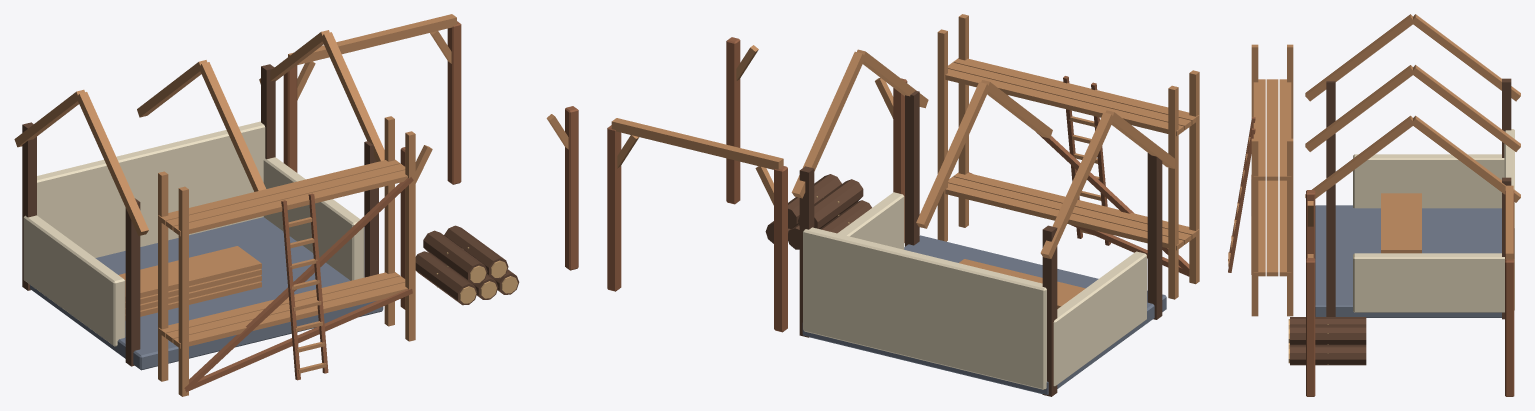
Rendered from station_scaffold.glb.
3 views of the same model, side by side, from view 1: azimuth 30°, elevation 25°; view 2: azimuth 150°, elevation 25°; view 3: azimuth 270°, elevation 25° (orthographic). The views are drawn at different scales.
Visible parts, largest first — view 1: station_scaffold_建筑共用调色板.024; view 2: station_scaffold_建筑共用调色板.024; view 3: station_scaffold_建筑共用调色板.024.
Part boxes in pixels (x1,y1,x2,y2): station_scaffold_建筑共用调色板.024: (14, 14, 578, 396); station_scaffold_建筑共用调色板.024: (607, 14, 1199, 396); station_scaffold_建筑共用调色板.024: (1228, 14, 1520, 396).
Size of the model in its own units: 7.35 by 3.8 by 5.
Materials: 1 (1 with a texture image).
